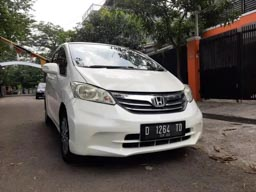plat: (140, 121, 188, 134)
